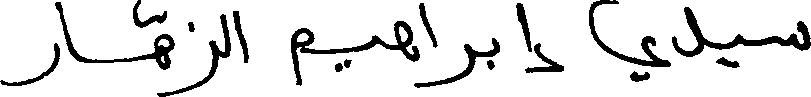أ: (515, 1, 559, 77)
ا: (57, 0, 77, 63), (418, 1, 438, 49), (230, 9, 247, 63)
ب: (488, 35, 499, 70)
د: (671, 4, 704, 57)
ر: (0, 0, 60, 86), (448, 42, 475, 84)
ز: (187, 20, 217, 91)
س: (774, 18, 809, 51)
ل: (219, 11, 232, 57)
م: (289, 25, 313, 86)
ه: (393, 1, 419, 68), (152, 8, 173, 72)
ي: (587, 0, 671, 82), (332, 32, 380, 73), (713, 32, 744, 68)
